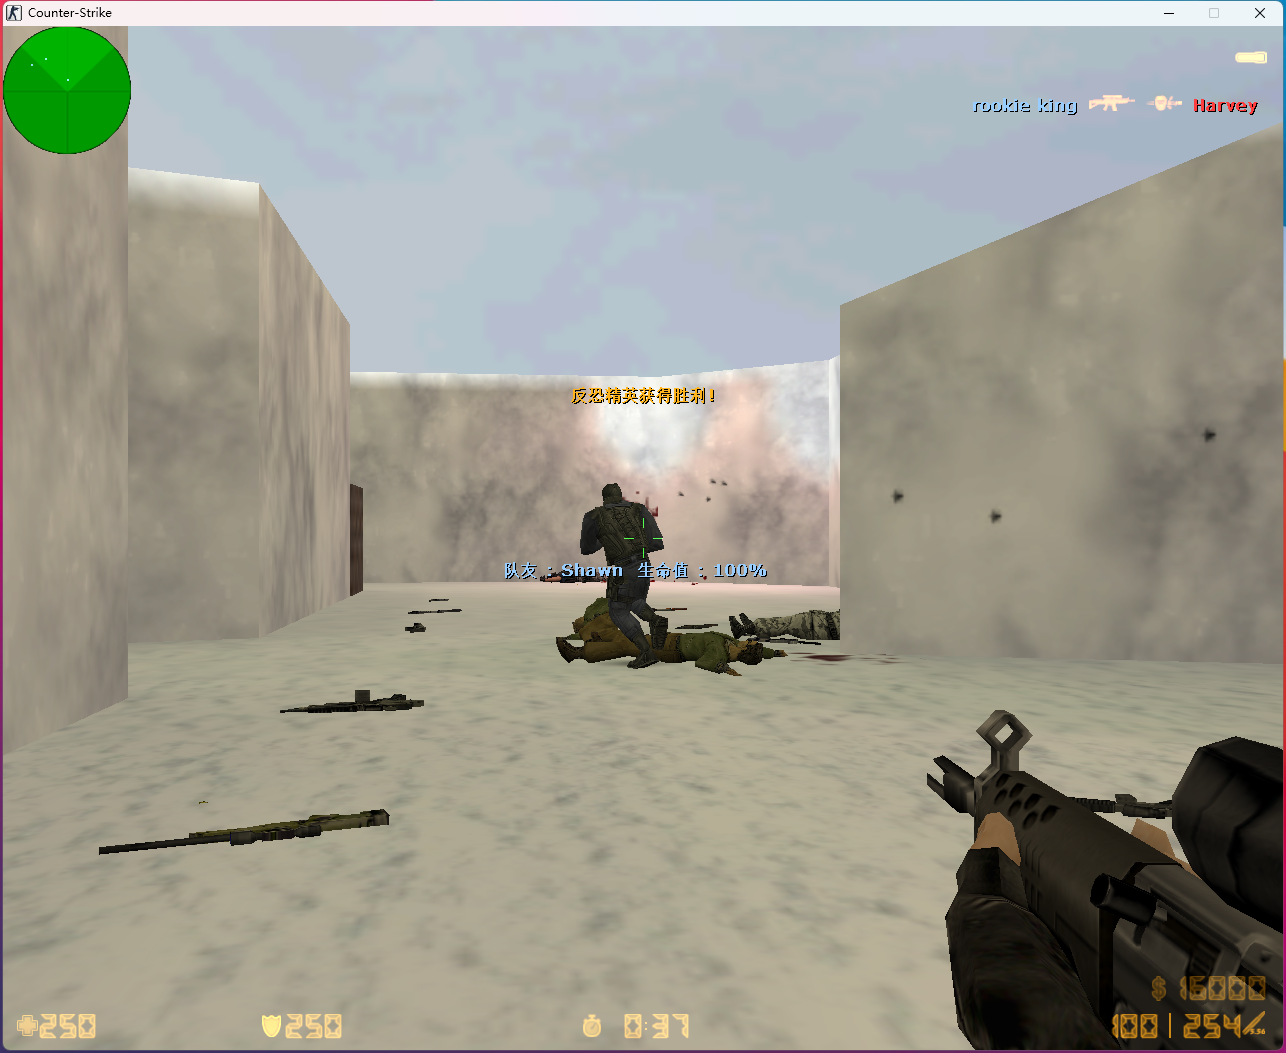C: (579, 481, 669, 669)
dead: (559, 628, 784, 675), (727, 608, 851, 640), (540, 570, 606, 583)
weapon: (97, 806, 392, 854), (275, 690, 427, 722), (408, 607, 461, 615), (404, 620, 429, 635)
